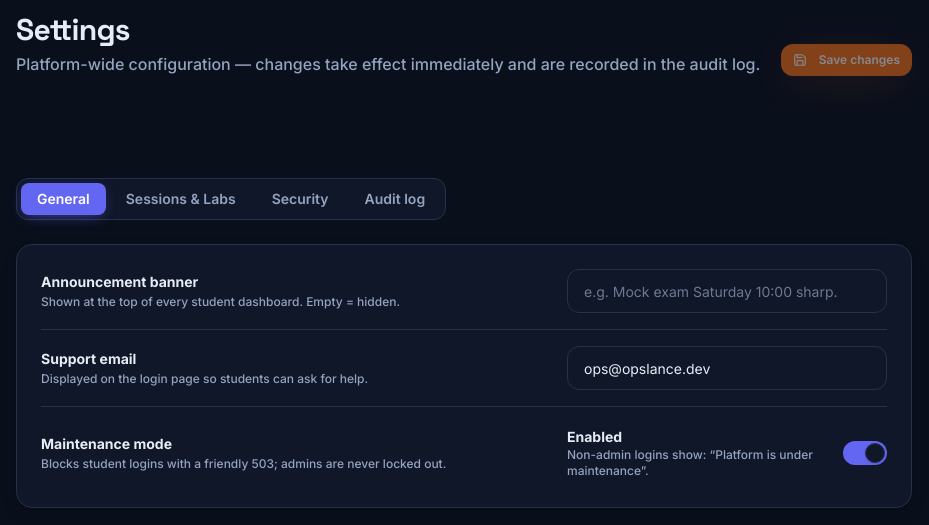
Test: AdminSettings › maintenance banner appears when the toggle is on
The width and height of the screenshot is (929, 525).
the audit tab lists the change
Click the tab "Audit log" at (395, 199), box x1=349 y1=183 x2=441 y2=215
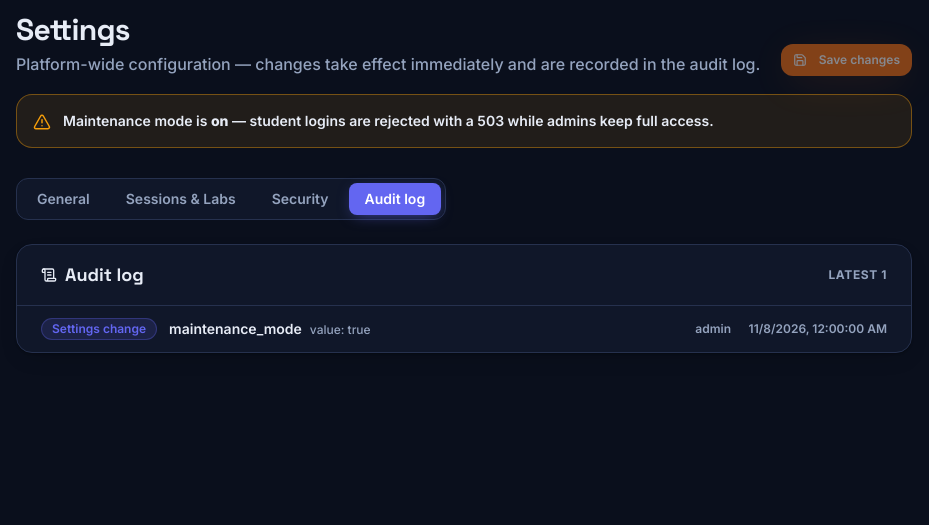
Expected: the text "maintenance_mode" is shown, x1=169 y1=320 x2=302 y2=337
